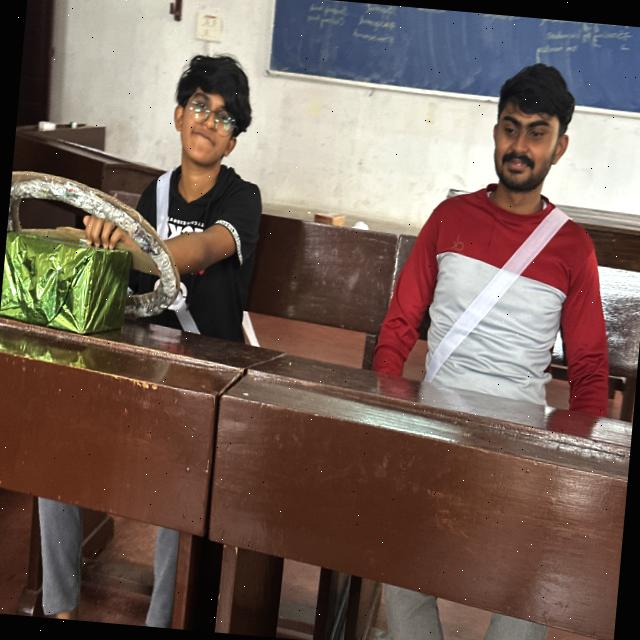seatbelt: (370, 159, 578, 430), (76, 128, 271, 390)
